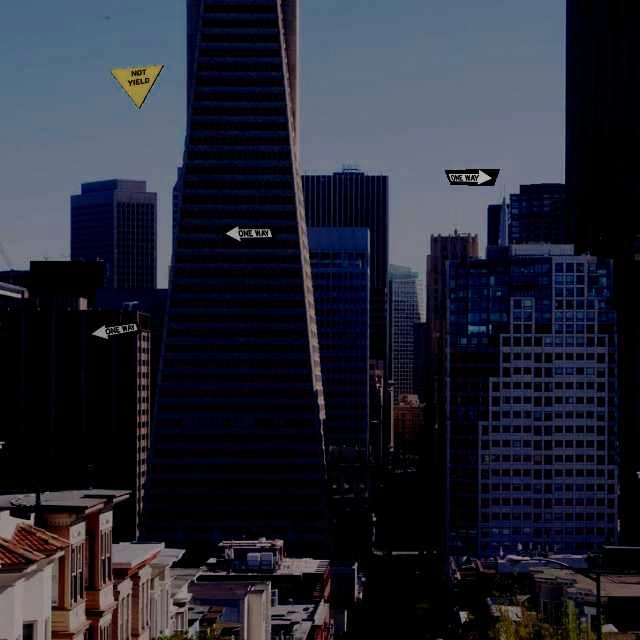NOT_YIELD: (108, 64, 164, 109)
ONE_WAY_ left: (86, 320, 142, 344), (221, 225, 277, 243)
ONE_WAY_ right: (444, 168, 500, 186)
